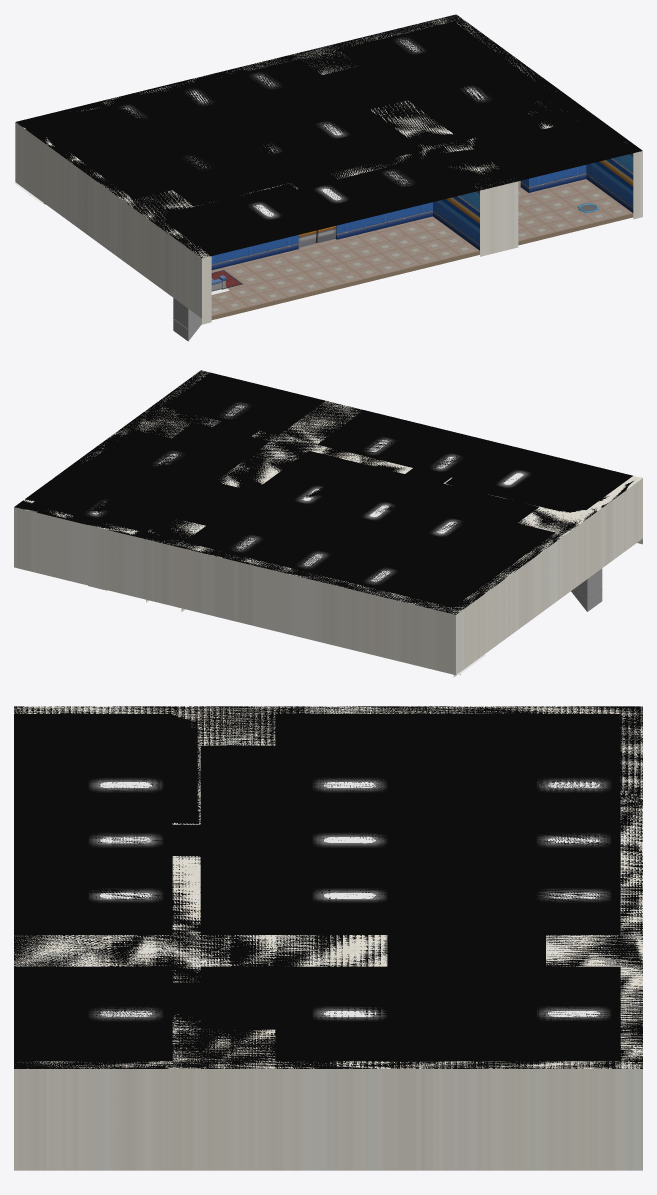
The picture shows the model from 3 angles, top to bottom: view 1: azimuth 30°, elevation 25°; view 2: azimuth 150°, elevation 25°; view 3: azimuth 270°, elevation 25°; orthographic projection. The views are drawn at different scales.
Visible parts, largest first — view 1: P_D_006_Wall_01_4F_01, P_D_006_Floor_01_4F_01, P_C_001_ComWall_01, P_C_001_Stair_04, P_C_001_ComWall_01_01__1_; view 2: P_D_006_Wall_01_4F_01, P_C_001_Stair_04, P_C_001_CeilLight_01__2_; view 3: P_D_006_Wall_01_4F_01, P_C_001_CeilLight_01__3_, P_C_001_CeilLight_01, P_C_001_CeilLight_01__4_, P_C_001_CeilLight_01__6_, P_C_001_CeilLight_01__5_, P_C_001_CeilLight_01__2_, P_C_001_CeilLight_01__8_, P_C_001_CeilLight_01__11_, P_C_001_CeilLight_01__1_, P_C_001_CeilLight_01__9_, P_C_001_CeilLight_01__10_ (+1 smaller).
Part boxes in pixels (x1,y1,x2,y2): P_D_006_Wall_01_4F_01: [15, 14, 642, 324]; P_D_006_Floor_01_4F_01: [211, 179, 632, 315]; P_C_001_ComWall_01: [211, 251, 479, 319]; P_C_001_Stair_04: [173, 275, 226, 341]; P_C_001_ComWall_01_01__1_: [518, 213, 633, 245]; P_D_006_Wall_01_4F_01: [14, 370, 642, 675]; P_C_001_Stair_04: [571, 568, 602, 611]; P_C_001_CeilLight_01__2_: [493, 468, 533, 489]; P_D_006_Wall_01_4F_01: [14, 706, 642, 1170]; P_C_001_CeilLight_01__3_: [312, 832, 387, 848]; P_C_001_CeilLight_01: [88, 832, 163, 848]; P_C_001_CeilLight_01__4_: [312, 887, 387, 903]; P_C_001_CeilLight_01__6_: [536, 832, 611, 848]; P_C_001_CeilLight_01__5_: [312, 777, 387, 792]; P_C_001_CeilLight_01__2_: [88, 777, 163, 792]; P_C_001_CeilLight_01__8_: [536, 777, 611, 792]; P_C_001_CeilLight_01__11_: [536, 1006, 611, 1021]; P_C_001_CeilLight_01__1_: [88, 887, 163, 903]; P_C_001_CeilLight_01__9_: [88, 1006, 163, 1021]; P_C_001_CeilLight_01__10_: [312, 1006, 387, 1021].
Bounding box in the file's own units: 0.2311 × 0.053 × 0.1685.
Materials: 22 (22 with a texture image).
